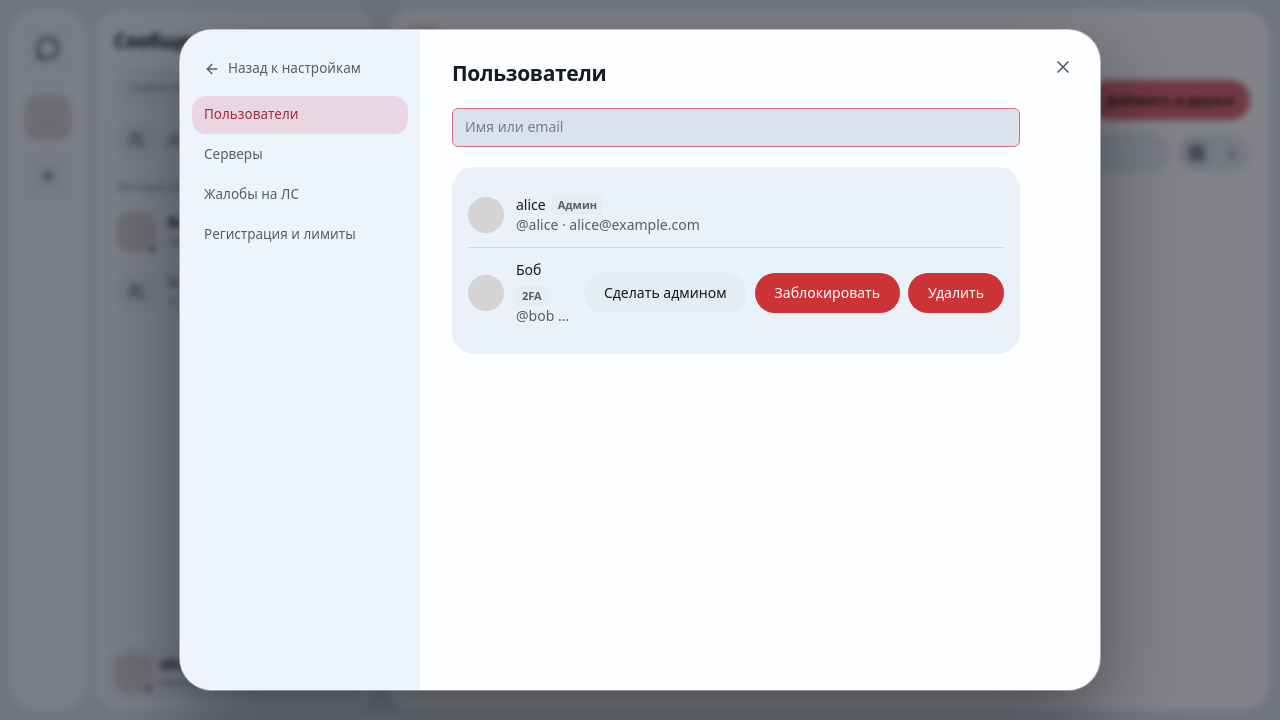
it: instance administration › goes back to the settings it was opened from, or closes
Click the link "Назад к настройкам": (282, 68) [204, 59, 361, 77]
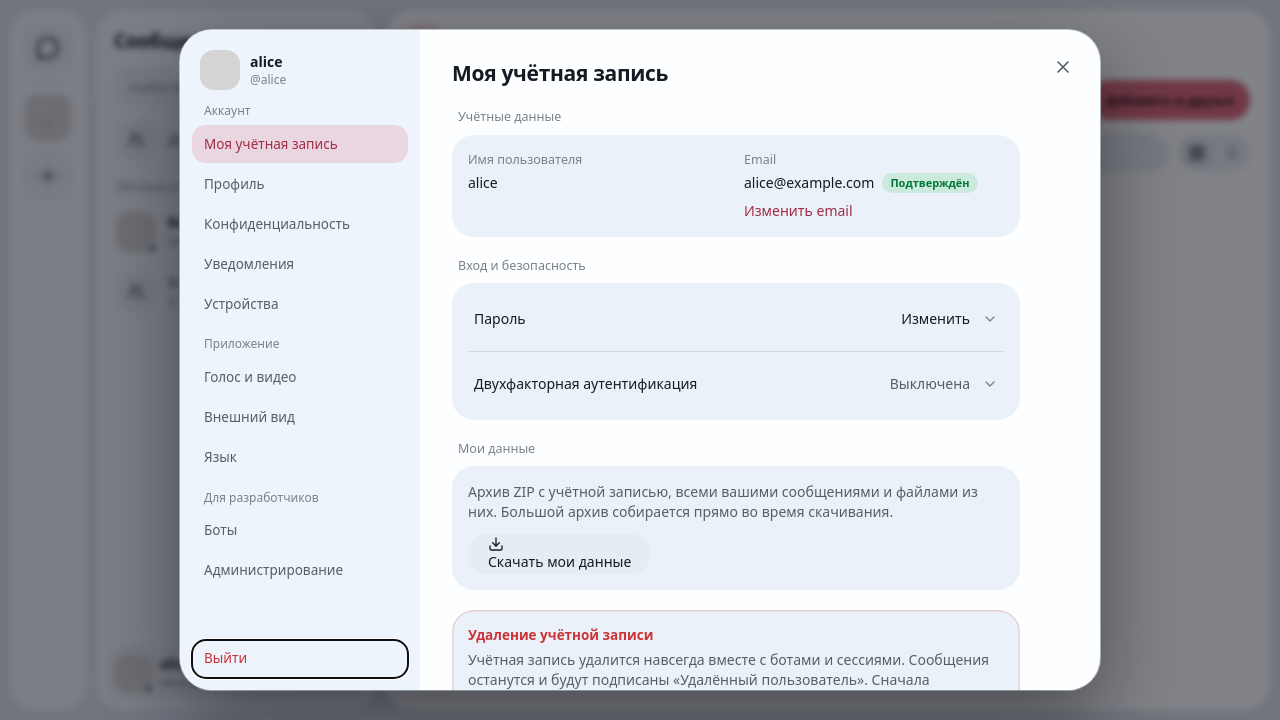
Click the link "Администрирование": (274, 570) [204, 561, 343, 579]
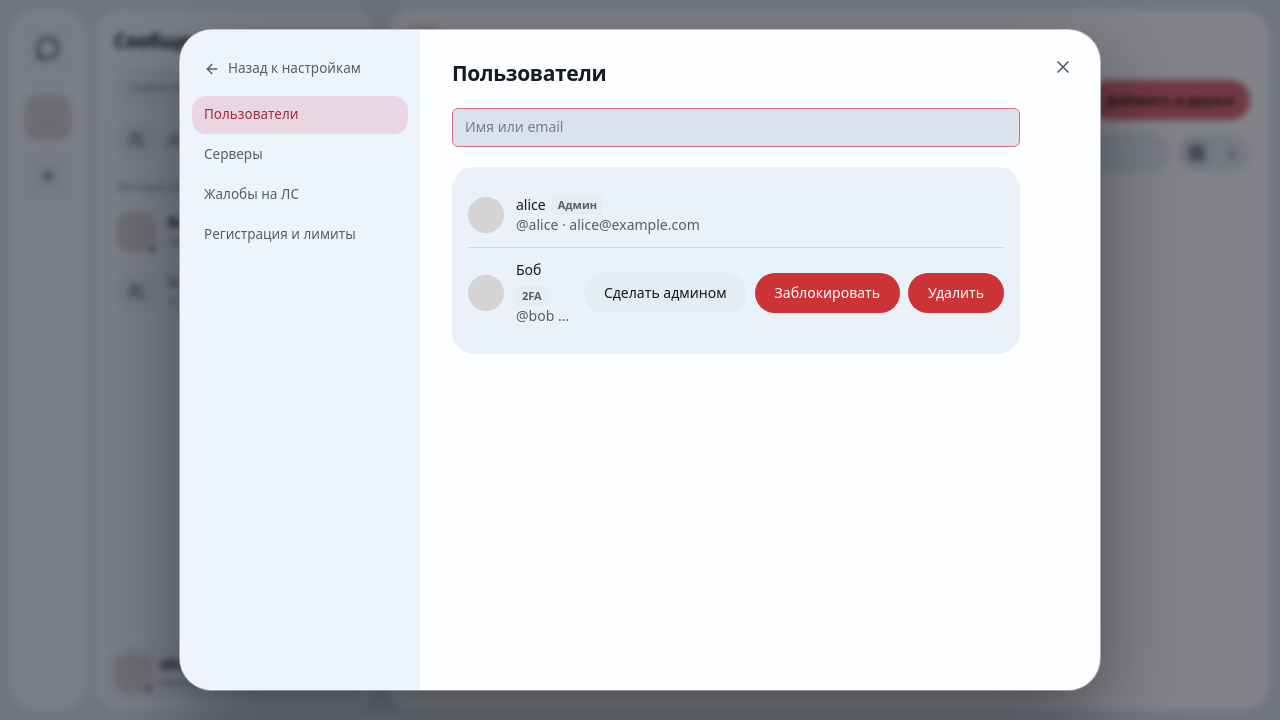
Click the button named "Закрыть администрирование": (1063, 67) [1046, 50, 1080, 84]
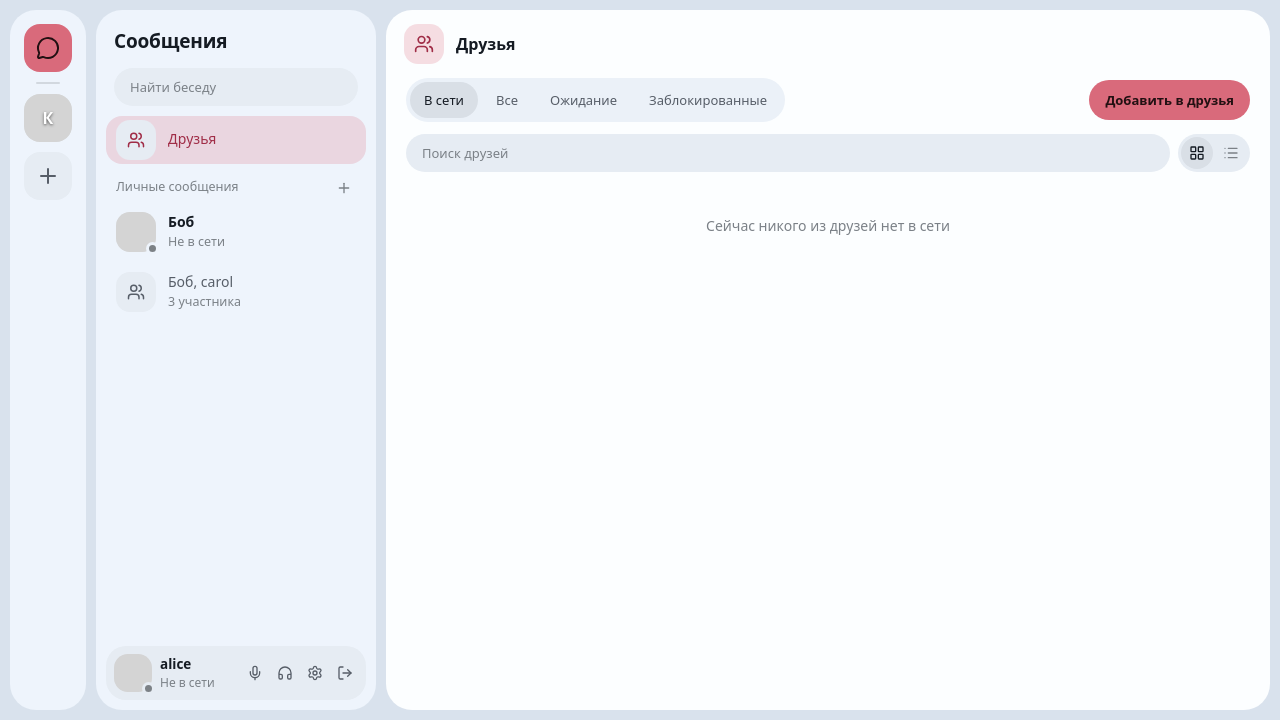
Check: the navigation bar "Администрирование" is gone
